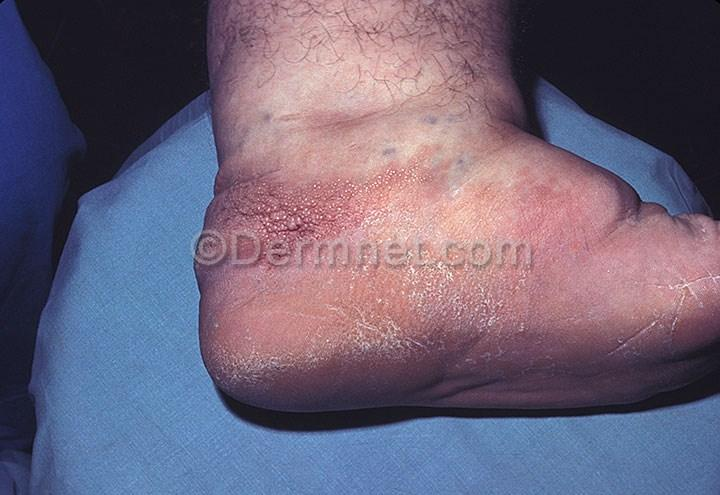Eczema: (356, 272, 540, 400), (202, 274, 359, 407), (186, 143, 389, 243), (388, 142, 569, 247), (536, 279, 680, 397), (560, 166, 681, 289), (261, 78, 381, 143), (679, 217, 720, 380)
